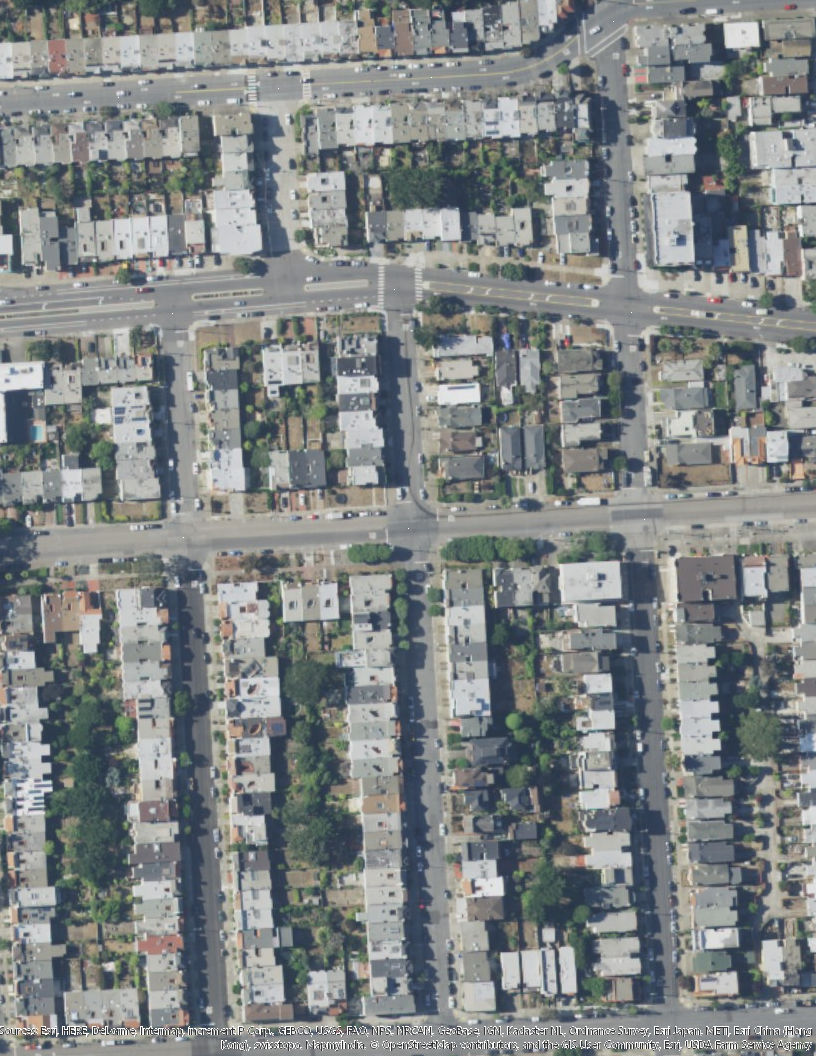zebracross: (245, 72, 259, 104), (376, 266, 386, 307), (299, 70, 312, 98), (414, 270, 423, 301)
